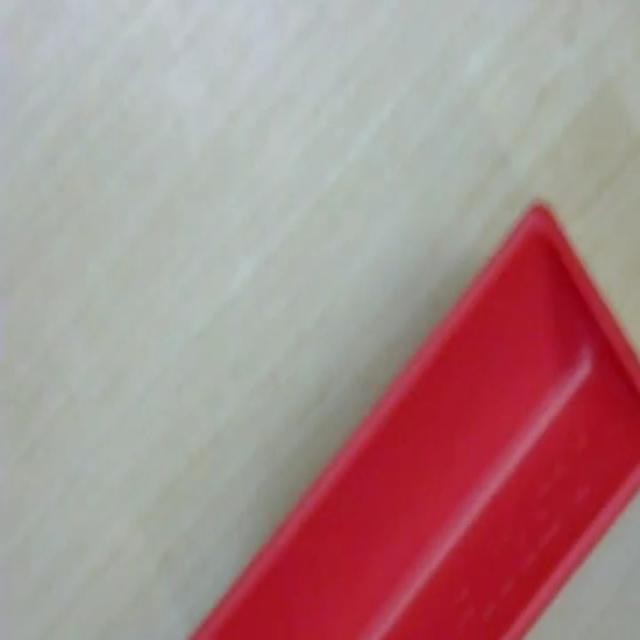red_block: (186, 198, 638, 638)
